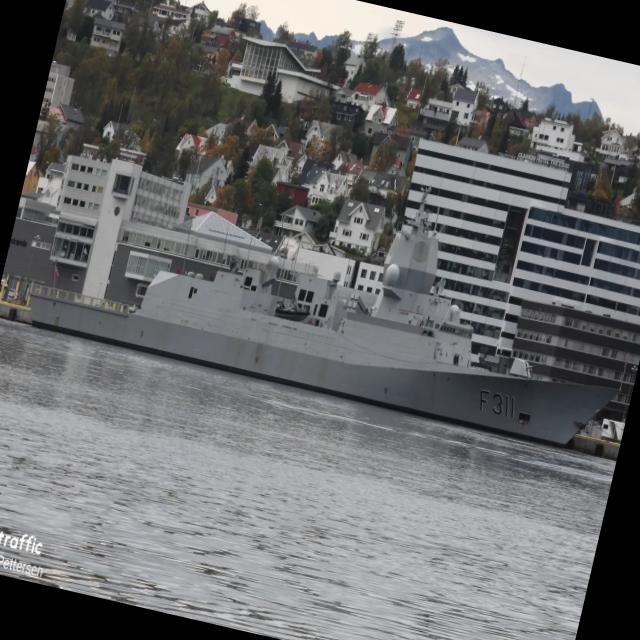Military: (32, 213, 617, 446)
